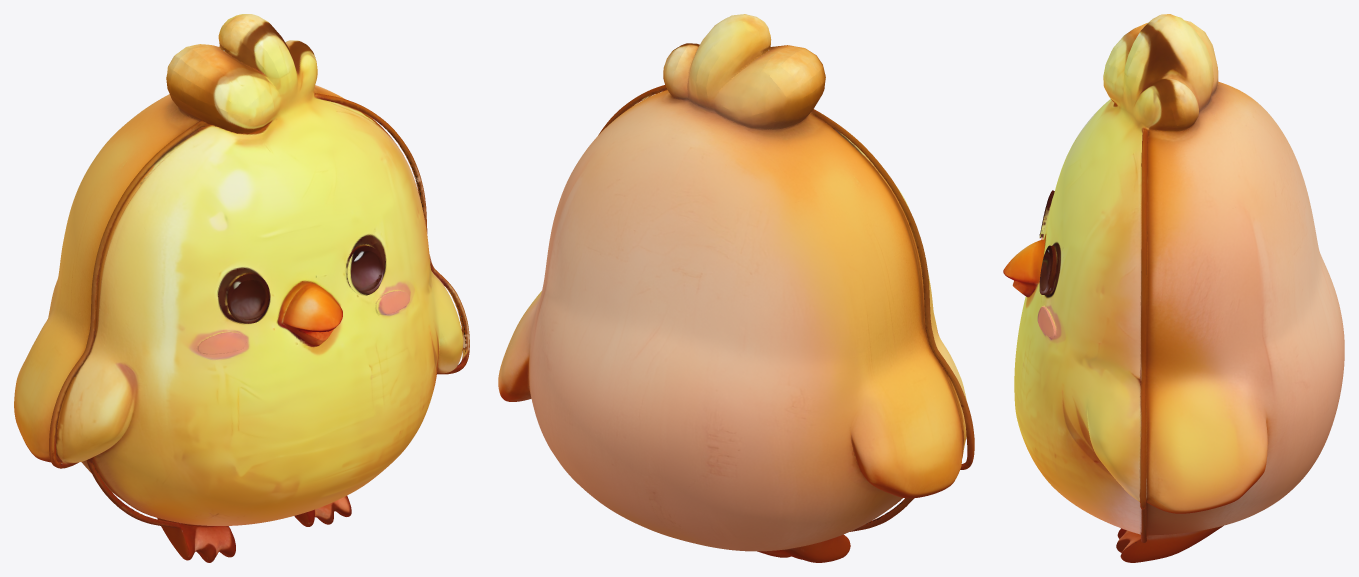
File: chick_rodin_shaded.glb
3 renders of one model, left to right at view 1: azimuth 30°, elevation 25°; view 2: azimuth 150°, elevation 25°; view 3: azimuth 270°, elevation 25°, orthographic. The views are drawn at different scales.
Parts seen in each view (by area): view 1: model; view 2: model; view 3: model.
Part boxes in pixels (x1,y1,x2,y2): model: (14, 14, 469, 562); model: (498, 14, 974, 562); model: (1003, 14, 1344, 562).
Bounding box in the file's own units: 1.61 × 1.9 × 1.14.
Materials: 1 (1 with a texture image).
